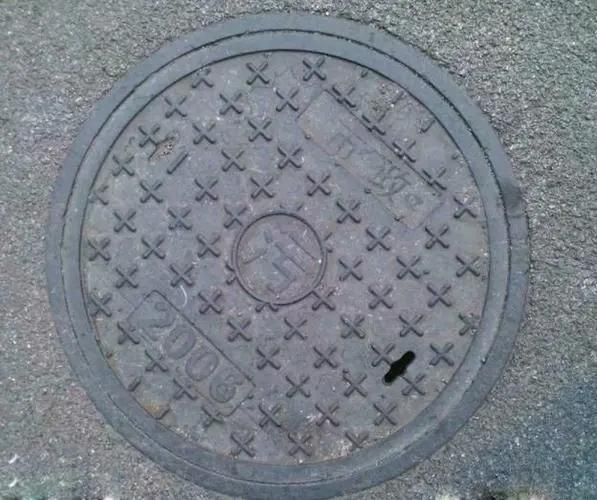wellcover: (50, 17, 529, 499)
